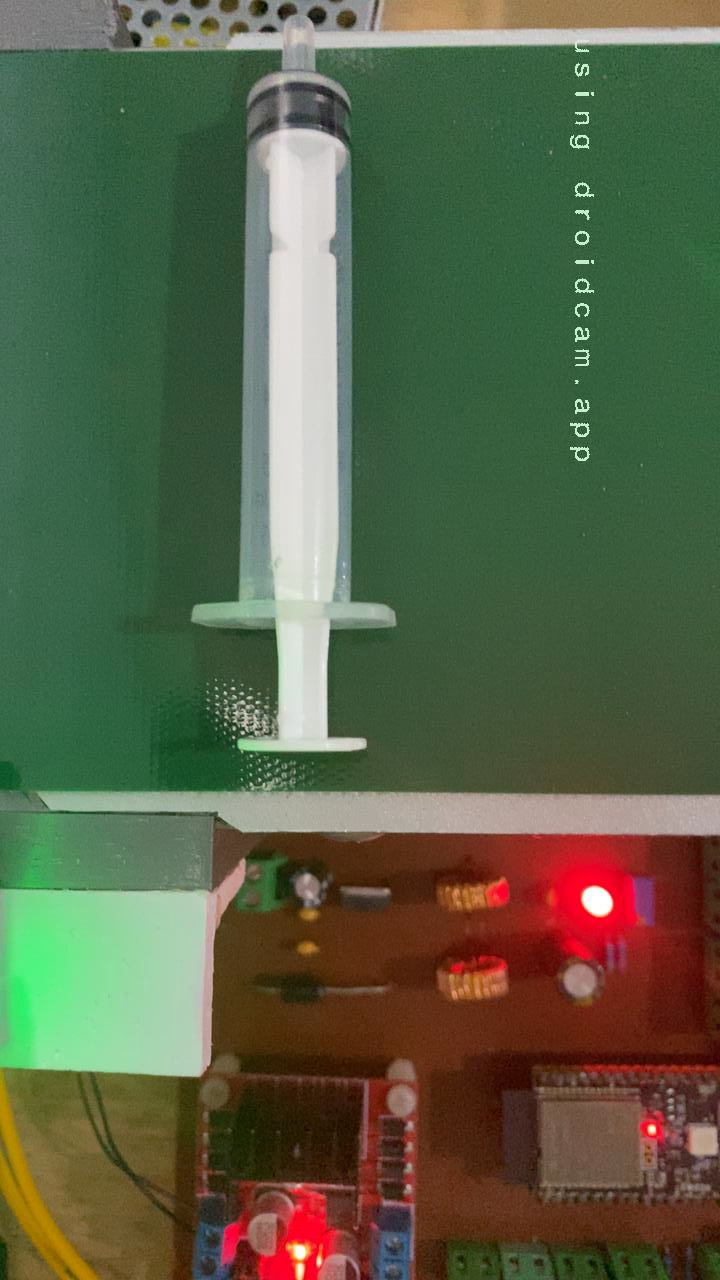syringe: (0, 46, 402, 760)
